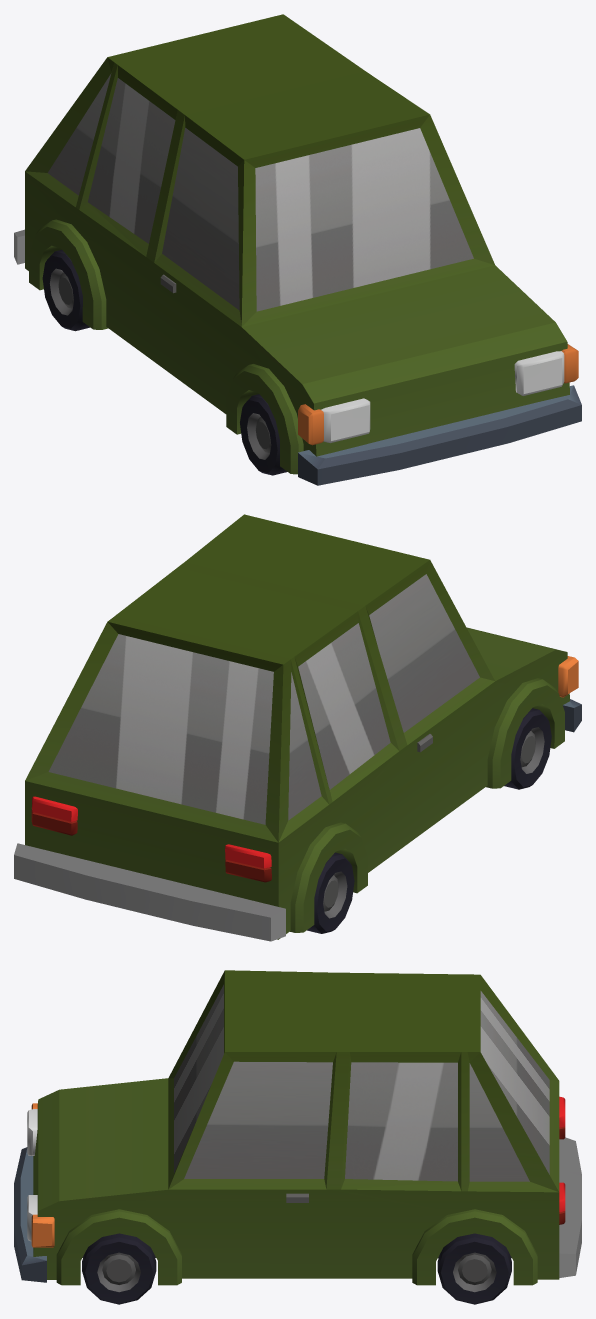
Rendered from Car_1_15.fbx.
3 renders of one model, top to bottom at view 1: azimuth 30°, elevation 25°; view 2: azimuth 150°, elevation 25°; view 3: azimuth 270°, elevation 25°, orthographic. The views are drawn at different scales.
Visible parts, largest first — view 1: Car_1_15, Wheel_Br, Wheel_Fr; view 2: Car_1_15, Wheel_Fr, Wheel_Br; view 3: Car_1_15, Wheel_Fl, Wheel_Bl.
Part boxes in pixels (x1,y1,x2,y2): Car_1_15: [14, 14, 581, 485]; Wheel_Br: [42, 249, 89, 331]; Wheel_Fr: [240, 394, 287, 475]; Car_1_15: [14, 514, 581, 941]; Wheel_Fr: [504, 708, 551, 789]; Wheel_Br: [307, 852, 354, 933]; Car_1_15: [14, 970, 581, 1285]; Wheel_Fl: [82, 1233, 156, 1304]; Wheel_Bl: [437, 1233, 511, 1304].
Size of the model in its own units: 105 by 94.33 by 207.
